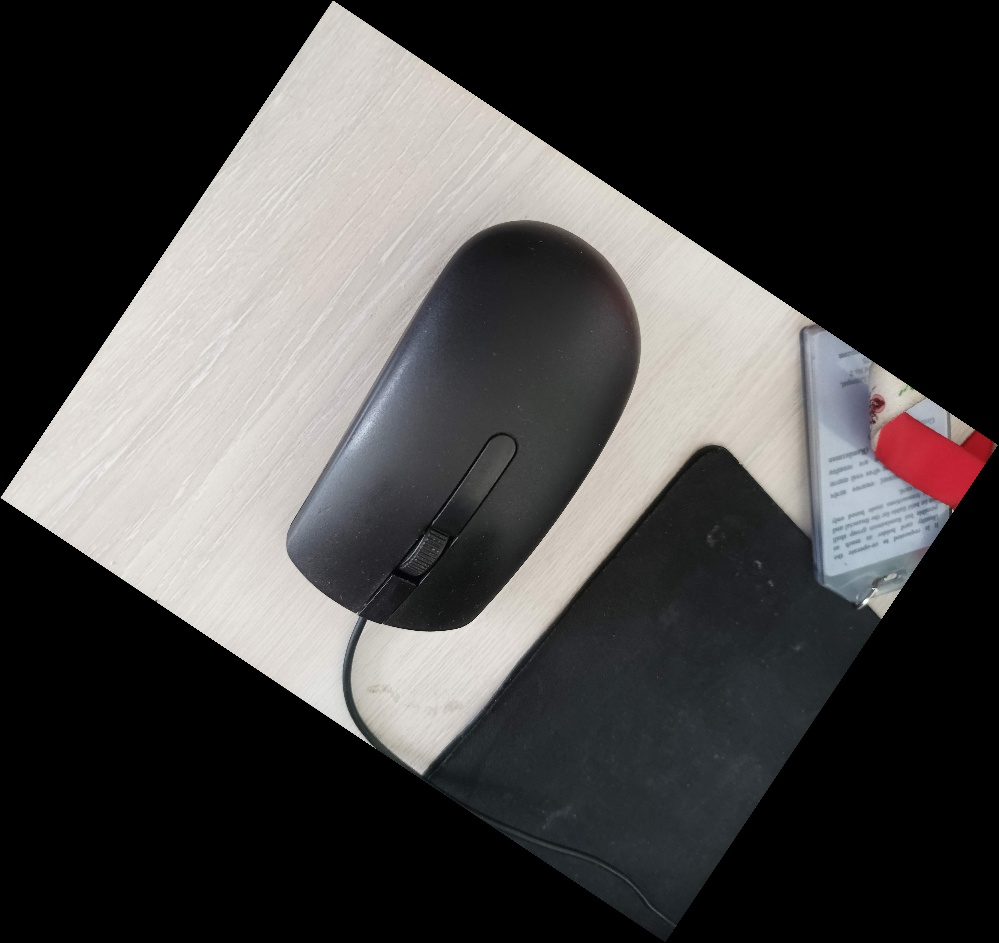mouse: (280, 212, 646, 634)
